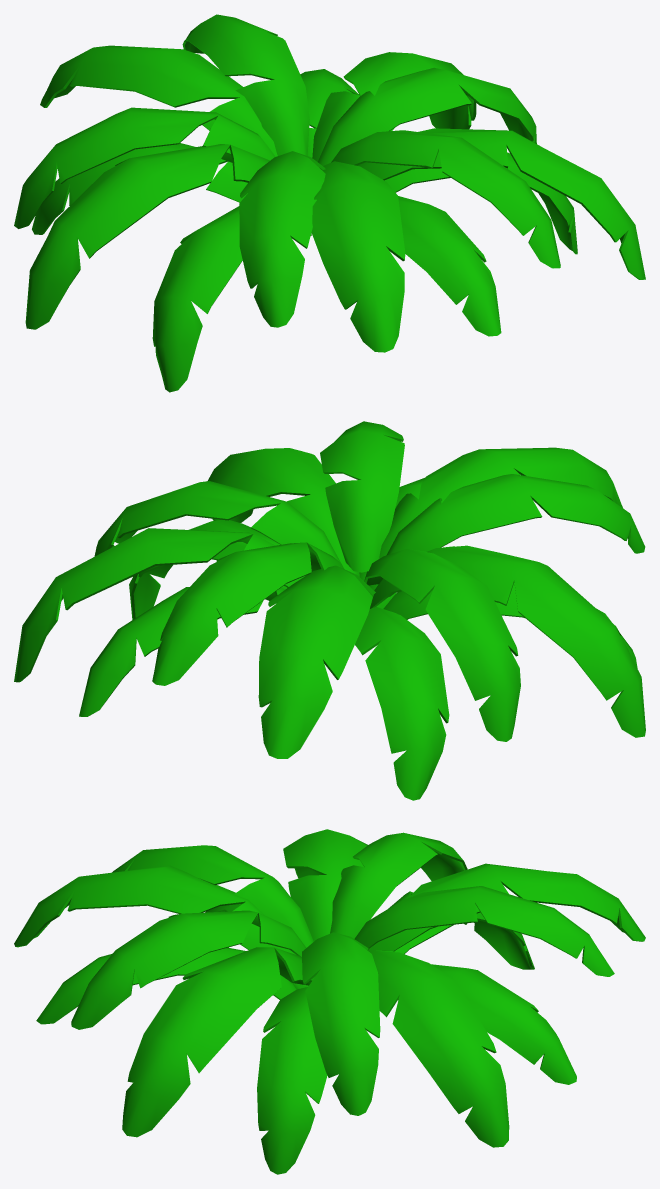
The model's file is palm_foliage_00.fbx.
3 renders of one model, top to bottom at view 1: azimuth 30°, elevation 25°; view 2: azimuth 150°, elevation 25°; view 3: azimuth 270°, elevation 25°, orthographic. The views are drawn at different scales.
Parts seen in each view (by area): view 1: Plane003; view 2: Plane003; view 3: Plane003.
Part boxes in pixels (<box>): Plane003: <box>14,14,645,392</box>; Plane003: <box>14,421,645,800</box>; Plane003: <box>14,829,645,1174</box>.
Size of the model in its own units: 279 by 100 by 312.
